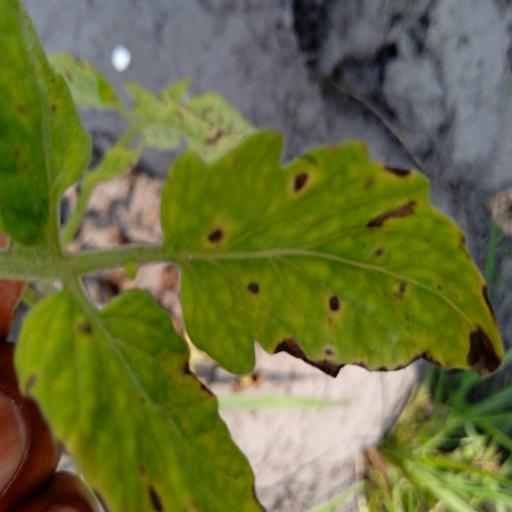Tomato_Brown_Spots: (154, 118, 509, 388), (12, 282, 269, 512), (0, 0, 101, 254)
